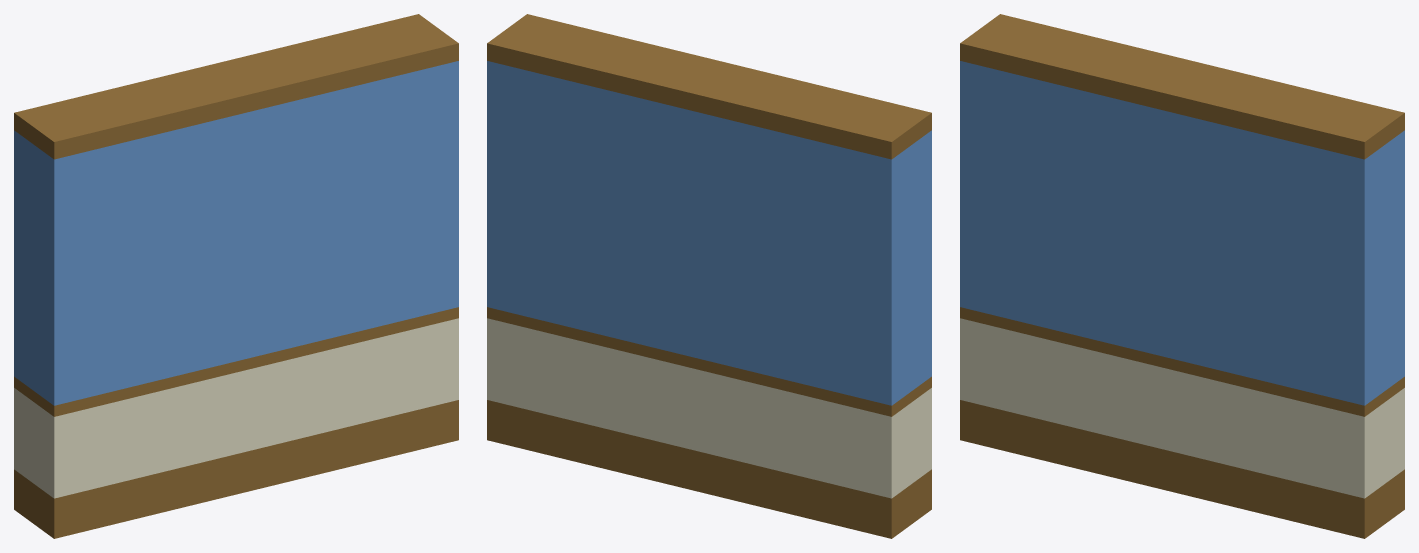
File: Wall_02_Blue.fbx
3 views of the same model, side by side, from view 1: azimuth 30°, elevation 25°; view 2: azimuth 150°, elevation 25°; view 3: azimuth 330°, elevation 25° (orthographic).
Parts seen in each view (by area): view 1: Wall_02_Yellow; view 2: Wall_02_Yellow; view 3: Wall_02_Yellow.
Part boxes in pixels (<box>): Wall_02_Yellow: <box>14,14,458,538</box>; Wall_02_Yellow: <box>487,14,931,538</box>; Wall_02_Yellow: <box>960,14,1404,538</box>.
Bounding box in the file's own units: 0.05 × 0.0469 × 0.00858.
1 material, 1 textured.
